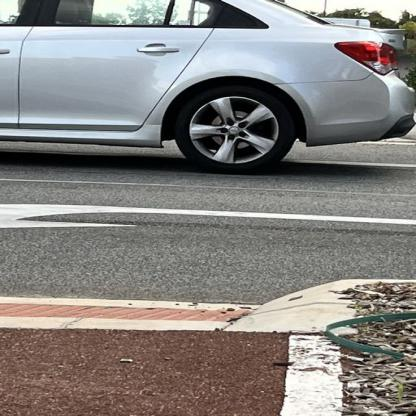Tire: (174, 84, 296, 173)
